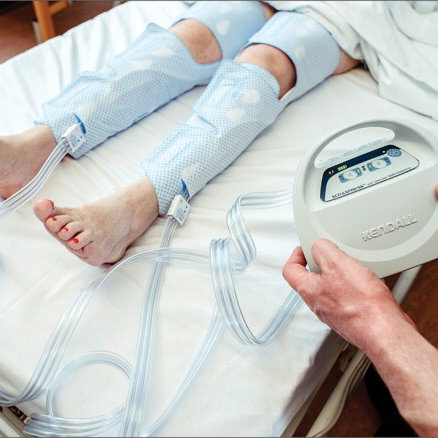hospital_bed: (1, 1, 438, 438)
patient: (1, 1, 374, 264)
sequential_compression: (35, 23, 438, 435)
